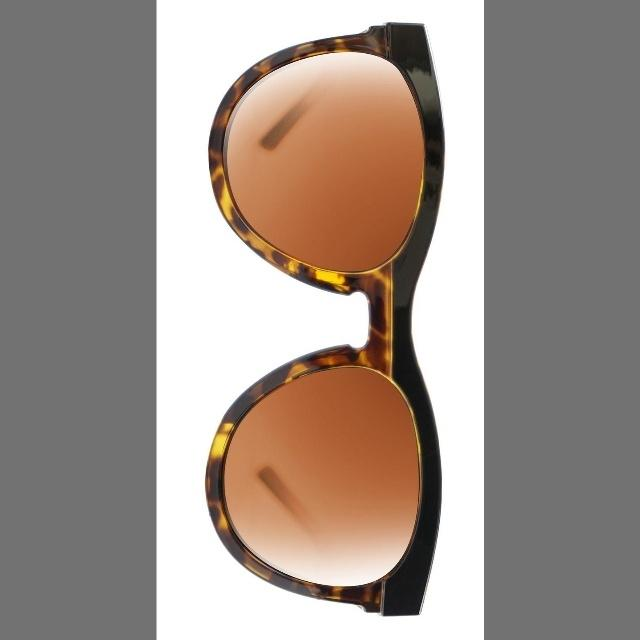Sunglasses: (177, 8, 475, 640)
